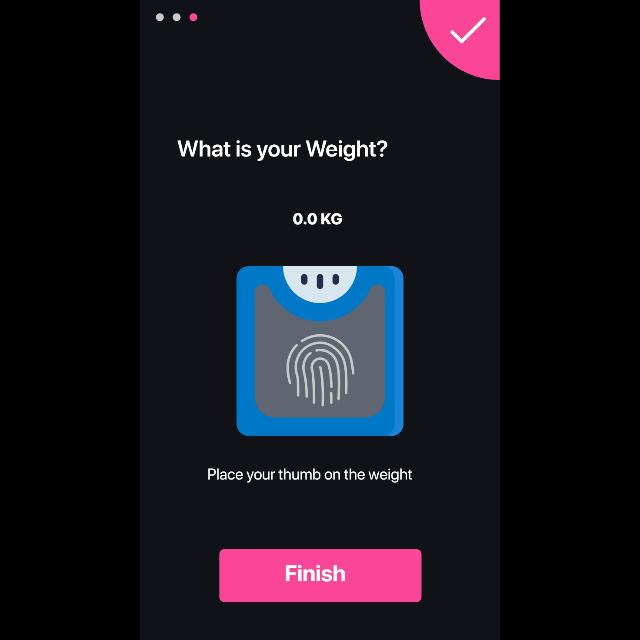icon: (450, 18, 486, 44)
image: (236, 266, 404, 436)
pageindicator: (156, 14, 198, 22)
text: (178, 140, 388, 162), (208, 468, 412, 482), (292, 213, 342, 225)
textbutton: (220, 550, 422, 602)
